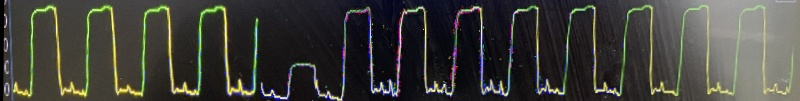hydrop_pressure: (335, 4, 774, 99), (0, 0, 240, 101)
